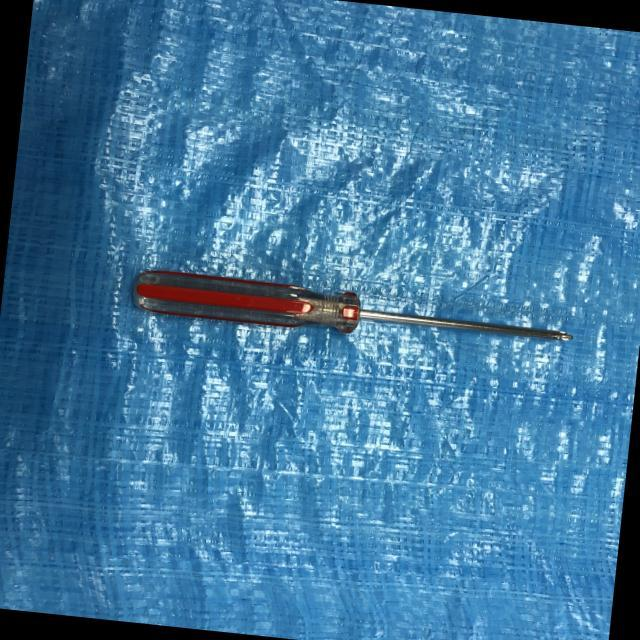screwdriver: (125, 266, 577, 358)
